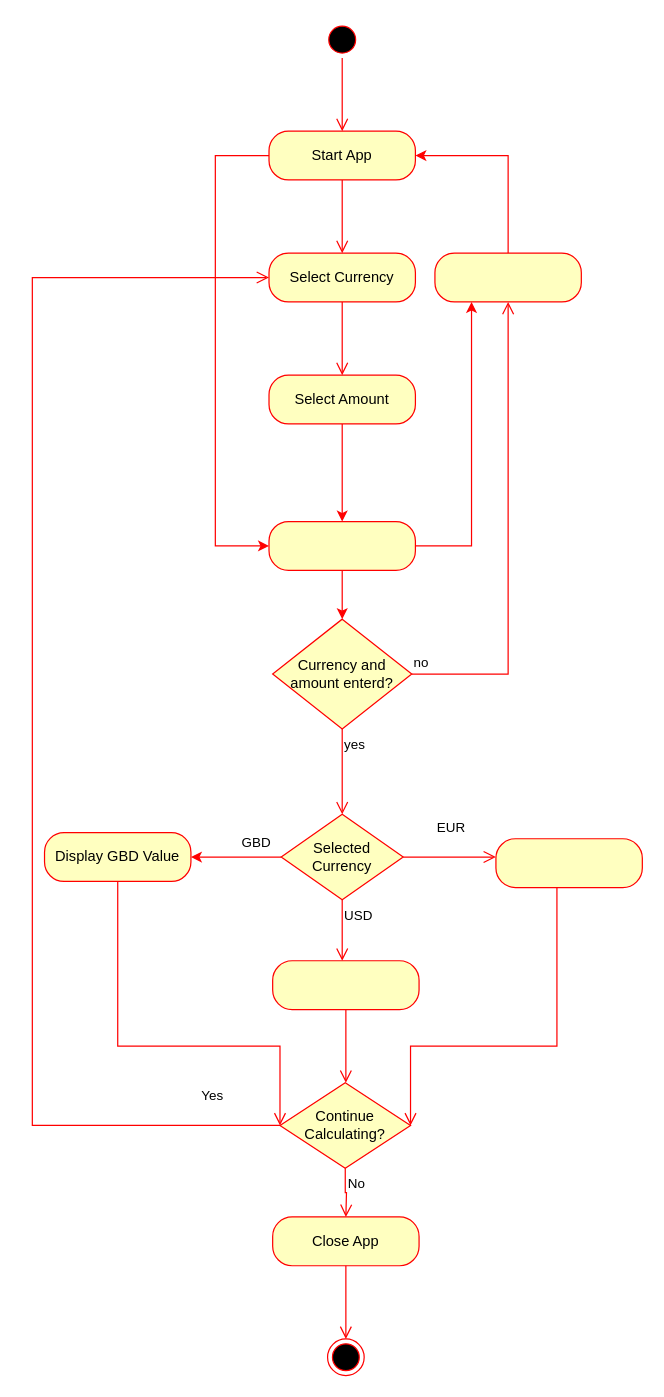
The diagram is 664 pixels wide and 1397 high, and some of its shapes have lost their labels. Each missing label, with the centre of its shape:
"Click Get" goes at point (341, 545).
"Display EUR Value" goes at point (568, 863).
"Display USD Value" goes at point (345, 985).
"Throw Exception" goes at point (507, 277).
